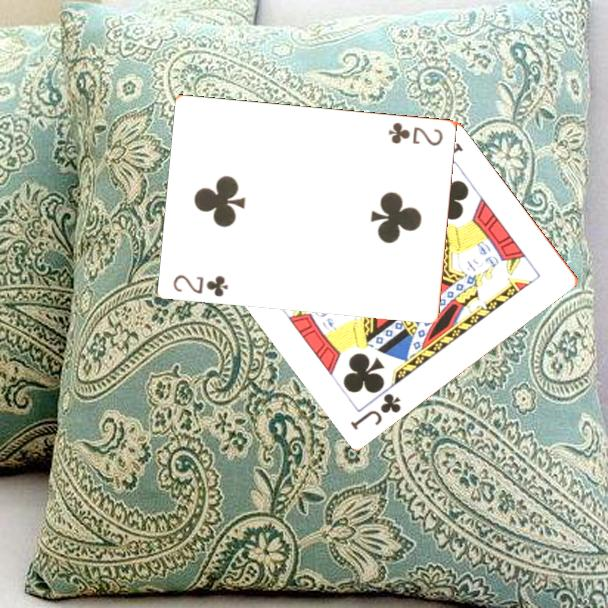c02: (385, 118, 446, 149), (170, 271, 231, 300)
c11: (347, 389, 404, 432)
